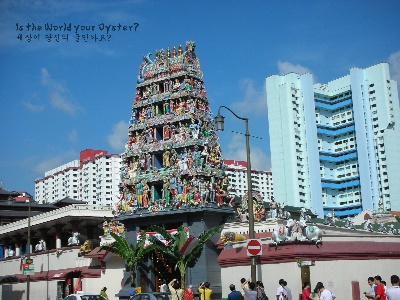gopura: (105, 43, 235, 207)
